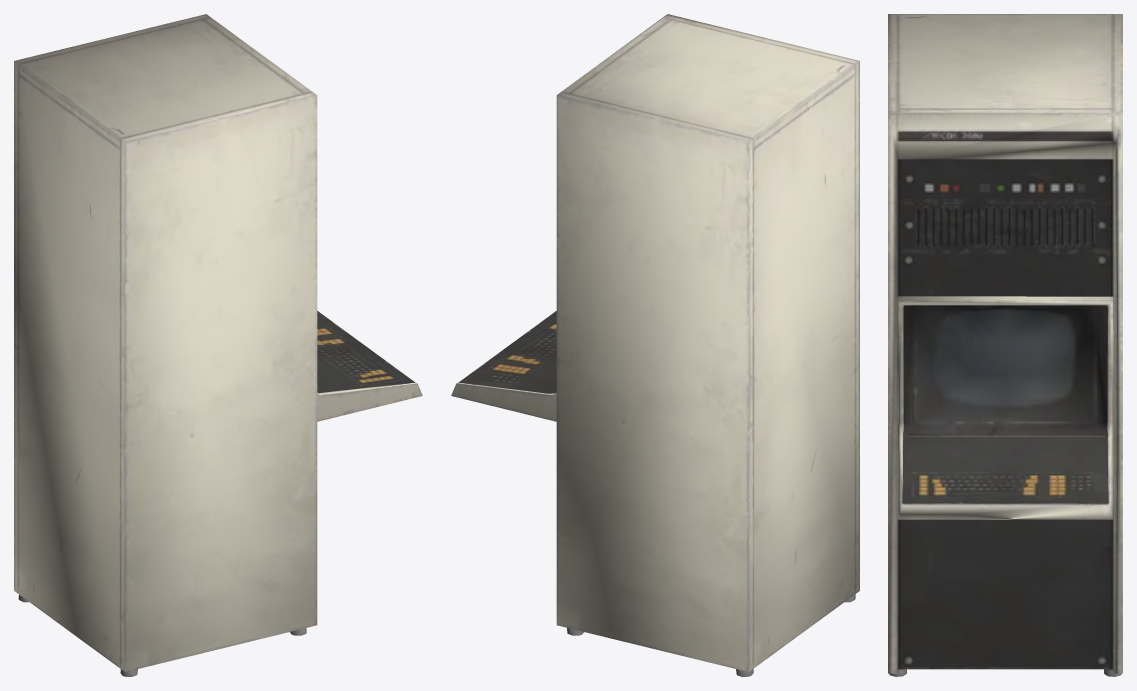
The model's file is computer_cabinet_g.glb.
3 views of the same model, side by side, from view 1: azimuth 30°, elevation 25°; view 2: azimuth 150°, elevation 25°; view 3: azimuth 270°, elevation 25° (orthographic). The views are drawn at different scales.
Parts seen in each view (by area): view 1: computer_cabinet_g; view 2: computer_cabinet_g; view 3: computer_cabinet_g.
Part boxes in pixels (x1,y1,x2,y2): computer_cabinet_g: (14, 14, 422, 676); computer_cabinet_g: (451, 14, 859, 676); computer_cabinet_g: (888, 14, 1122, 676).
Size of the model in its own units: 1.18 by 2 by 0.75.
Materials: 1 (1 with a texture image).
